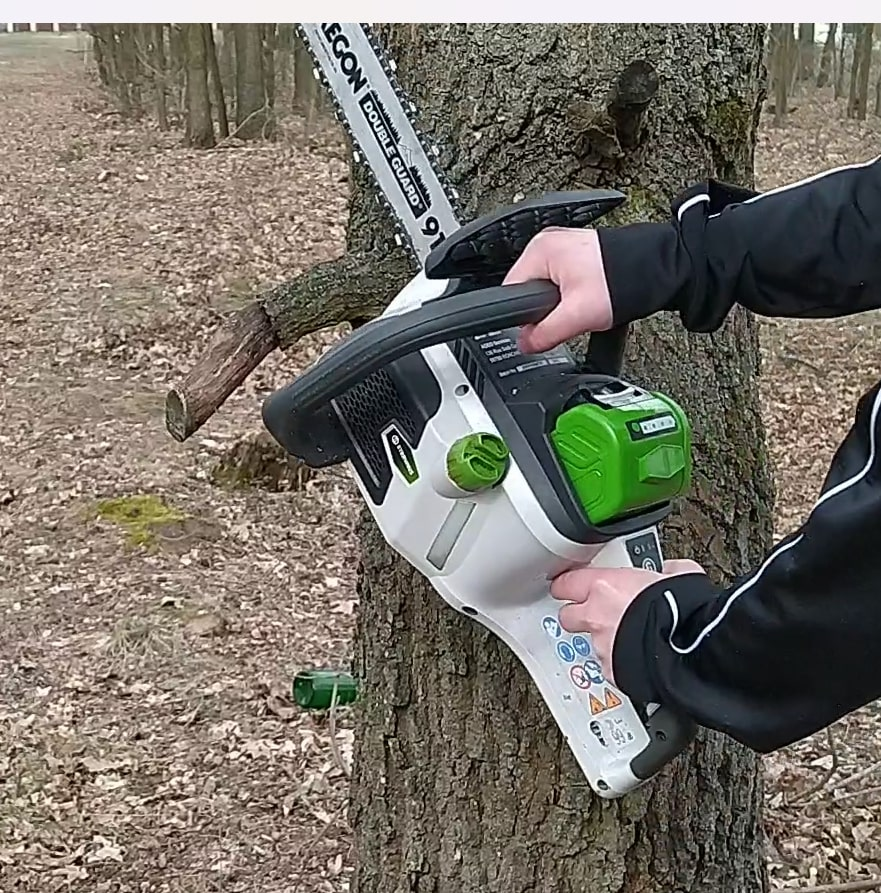chainsaw: (258, 20, 715, 820)
